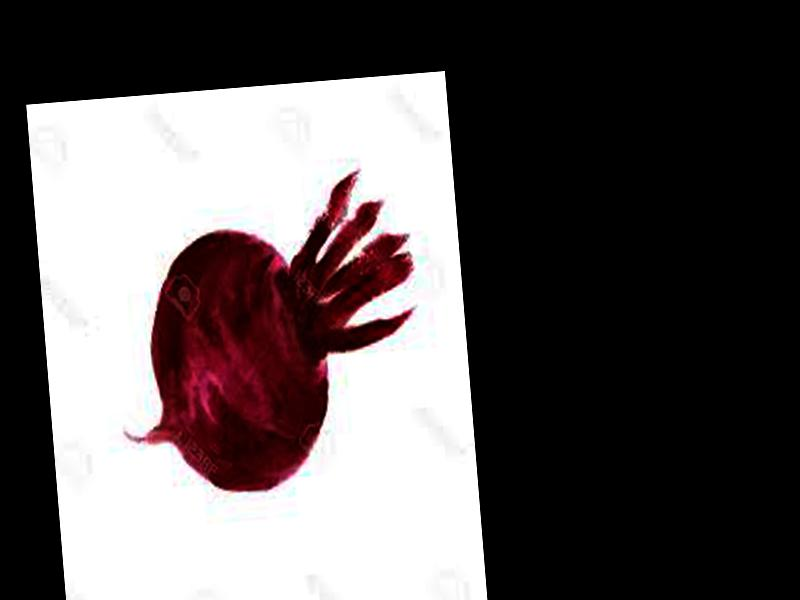Beet: (103, 168, 429, 503)
